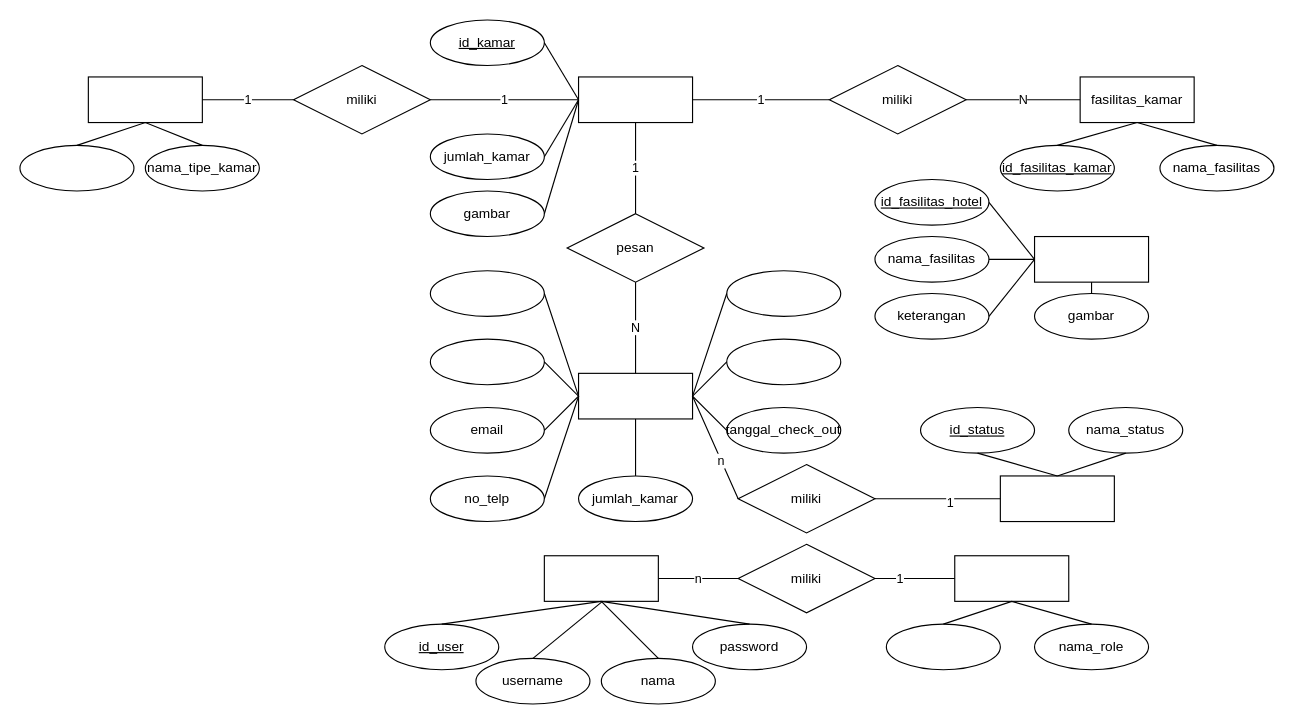
The diagram is 1294 pixels wide and 724 high, and some of its shapes have lost their labels. The centre of each missing label's shape, as x and y in pixels:
"fasilitas_hotel" belongs at pixel 1091 258.
"id_reservasi" belongs at pixel 486 293.
"id_role" belongs at pixel 942 646.
"id_tipe_kamar" belongs at pixel 76 167.
"kamar" belongs at pixel 635 99.
"nama_pemesan" belongs at pixel 486 361.
"nama_tamu" belongs at pixel 783 293.
"reservasi" belongs at pixel 635 395.
"role" belongs at pixel 1011 578.
"status" belongs at pixel 1056 498.
"tanggal_check_in" belongs at pixel 783 361.
"tipe_kamar" belongs at pixel 144 99.
"user" belongs at pixel 600 578.
